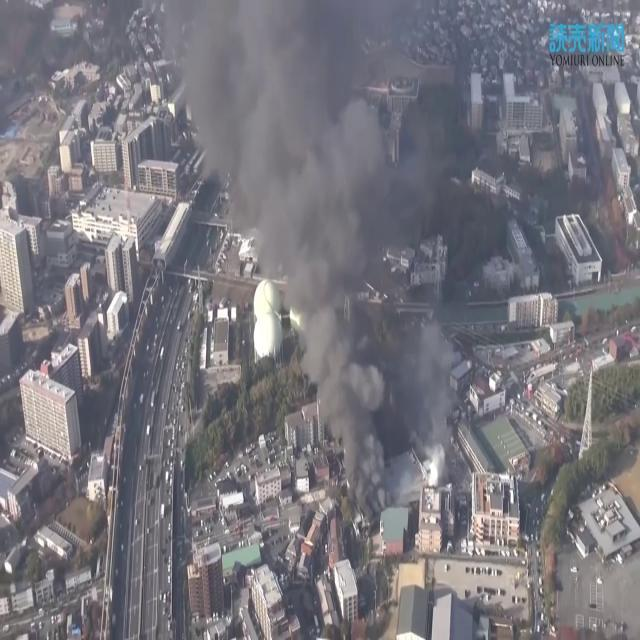Smoke: (220, 1, 462, 544)
